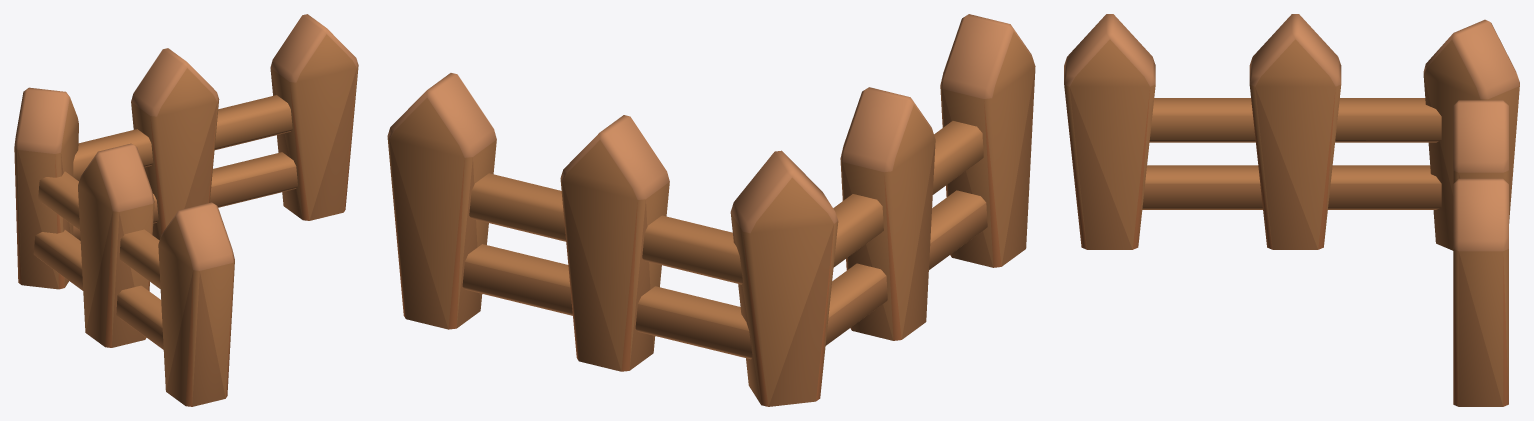
Rendered from itch_tiny_homely_house_fence_corner.glb.
3 views of the same model, side by side, from view 1: azimuth 30°, elevation 25°; view 2: azimuth 150°, elevation 25°; view 3: azimuth 270°, elevation 25° (orthographic). The views are drawn at different scales.
Visible parts, largest first — view 1: fence_corner; view 2: fence_corner; view 3: fence_corner.
Boxes of the visible parts, x1,y1,x2,y2 form: fence_corner: [14, 14, 358, 406]; fence_corner: [387, 14, 1035, 406]; fence_corner: [1064, 14, 1519, 406].
Size of the model in its own units: 1.18 by 0.6134 by 1.18.
